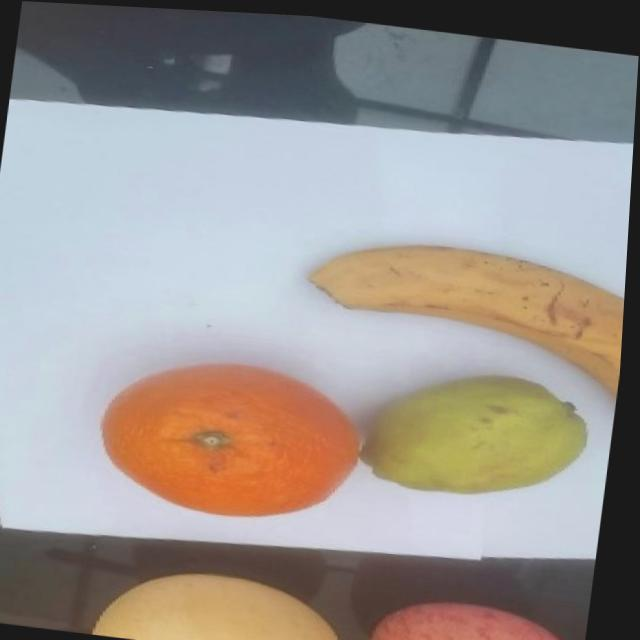Apple: (367, 582, 596, 640)
Banana: (298, 220, 630, 394)
Orange: (93, 345, 383, 534)
